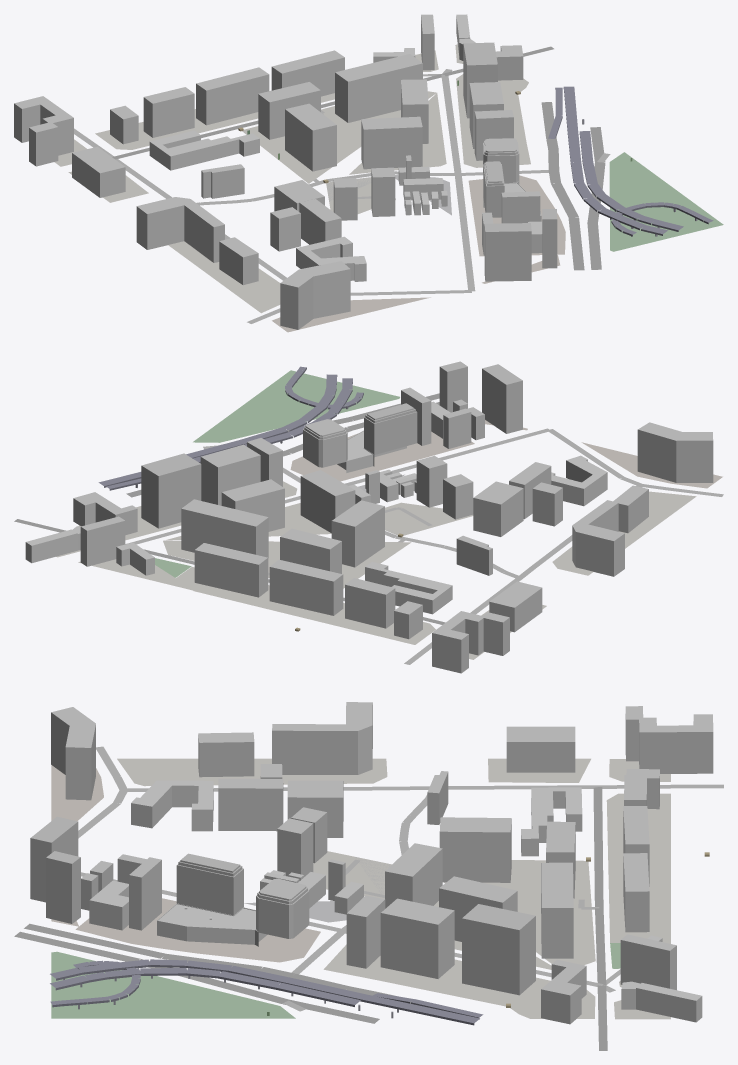
3 views of the same model, one above another, from view 1: azimuth 30°, elevation 25°; view 2: azimuth 150°, elevation 25°; view 3: azimuth 270°, elevation 25° (orthographic). The views are drawn at different scales.
Bounding box in the file's own units: 585 × 59.95 × 573.
